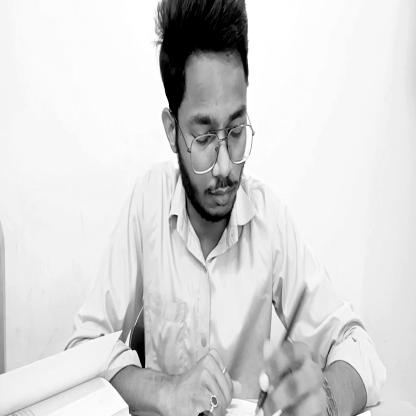Distracted: (160, 3, 256, 223)
